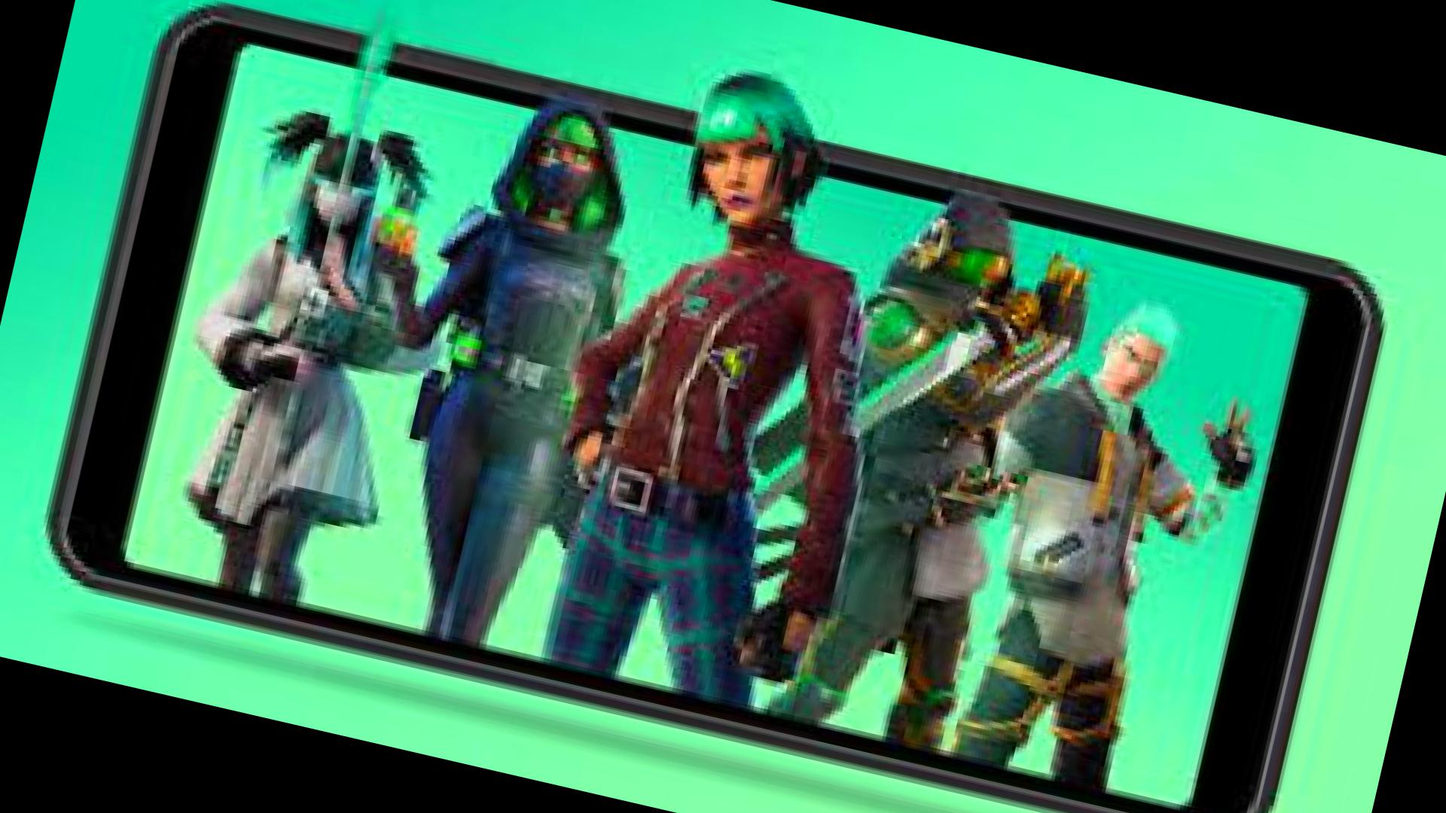player: (774, 161, 1075, 743), (380, 87, 643, 629), (979, 300, 1214, 802), (179, 122, 432, 566)
